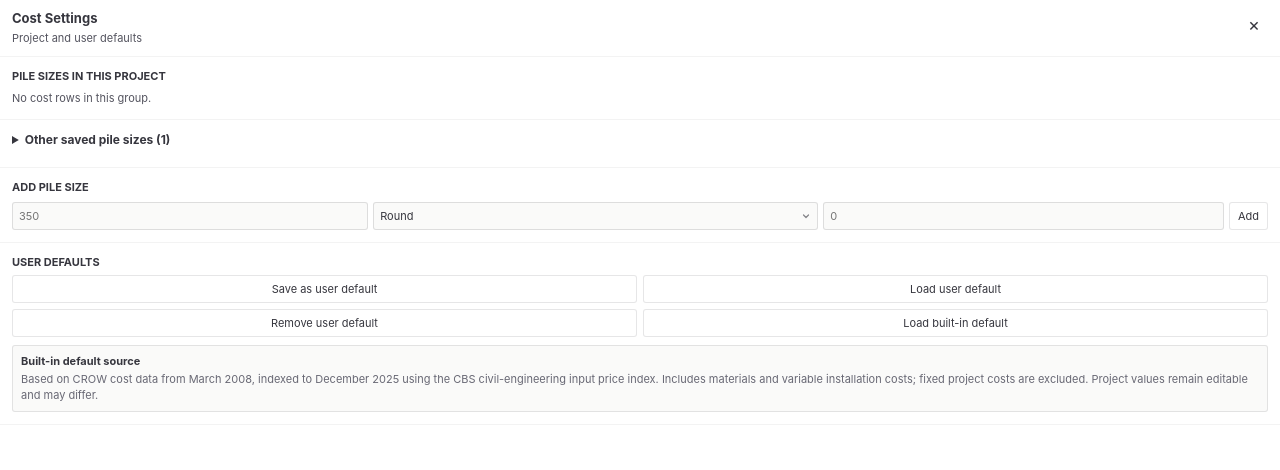
Scenario: duplicate cost rows show the specific error in en and retain the draft
Type "290" into the field named "Size". click: x=190, y=216
box: [12, 202, 368, 230]
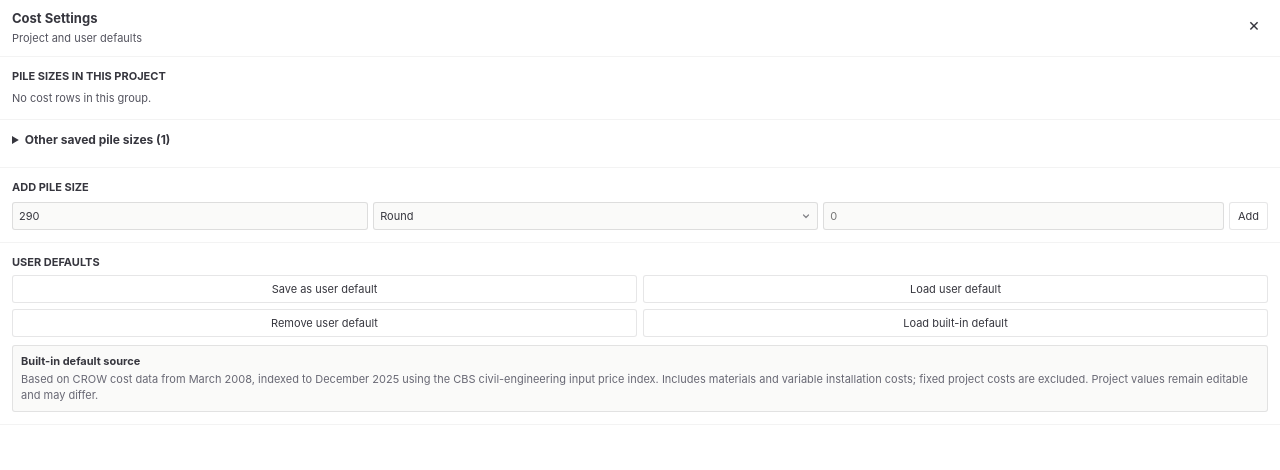
Type "500" into the field named "Cost per m³". click: x=1024, y=216
box: [823, 202, 1224, 230]
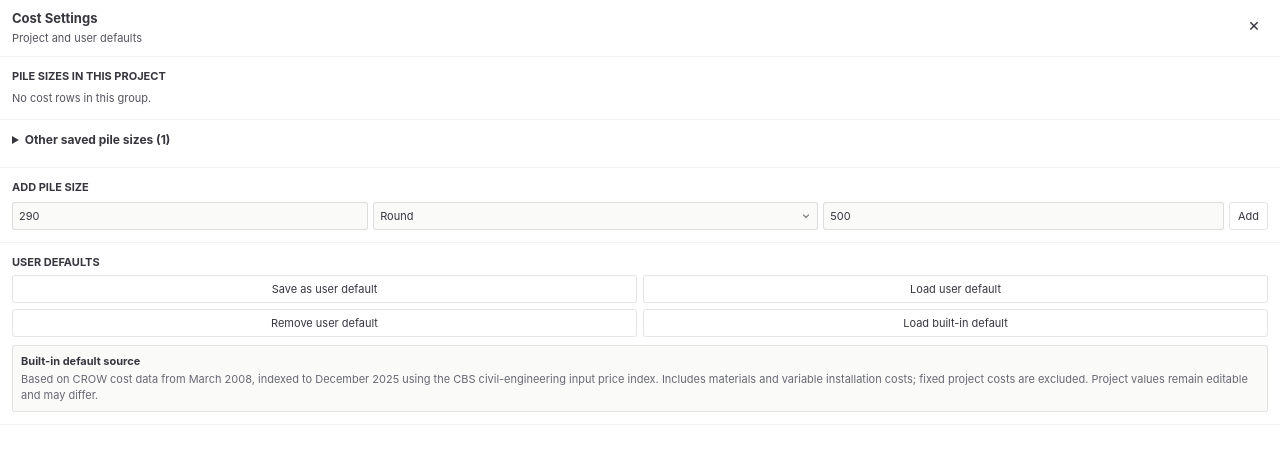
Click the button "Add". click: x=1248, y=216
box: [1229, 202, 1268, 230]
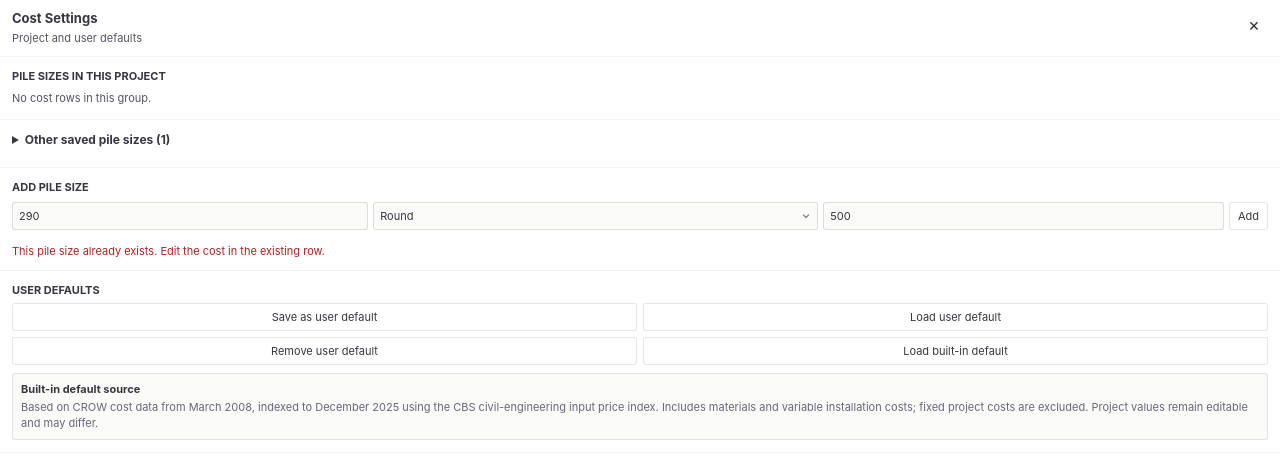
expect the message reads "This pile size already exists. Edit the cost in the existing row.": met, box [12, 244, 325, 258]
